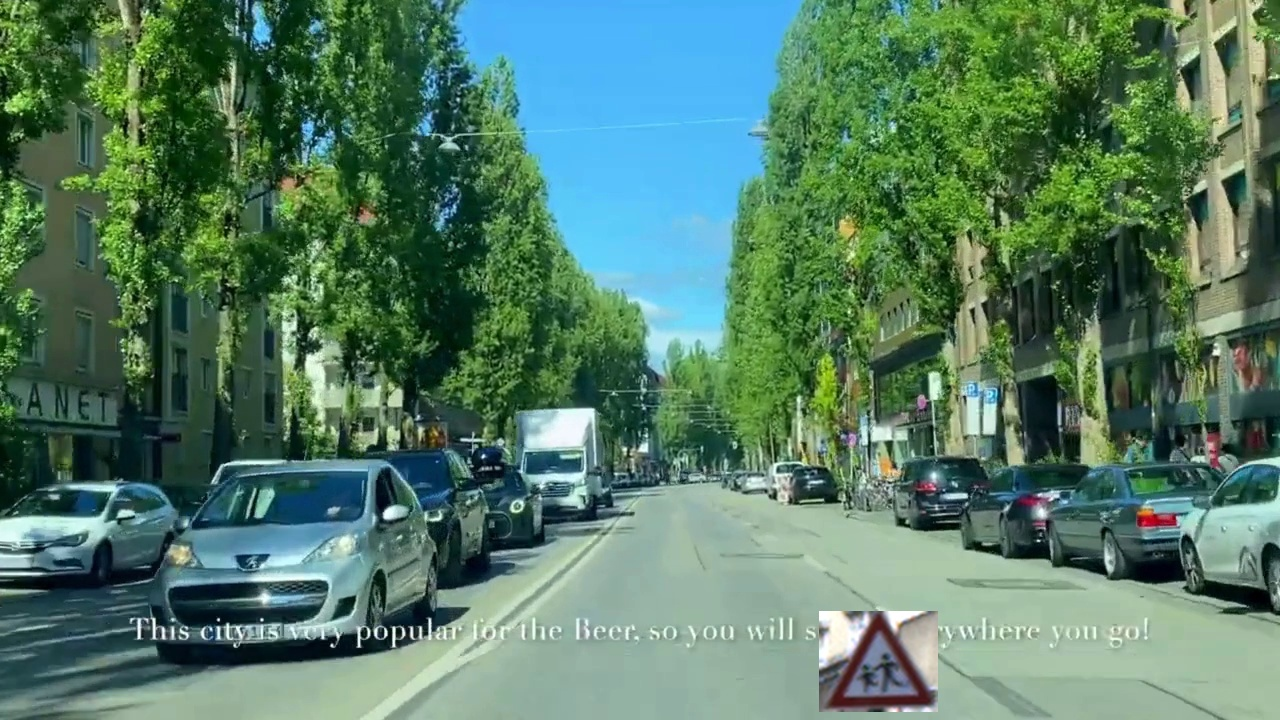Children: (819, 611, 938, 712)
